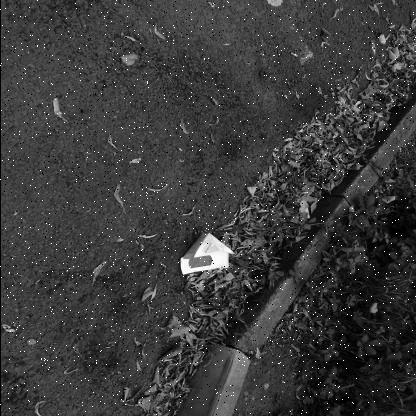cardboard: (179, 232, 235, 274)
